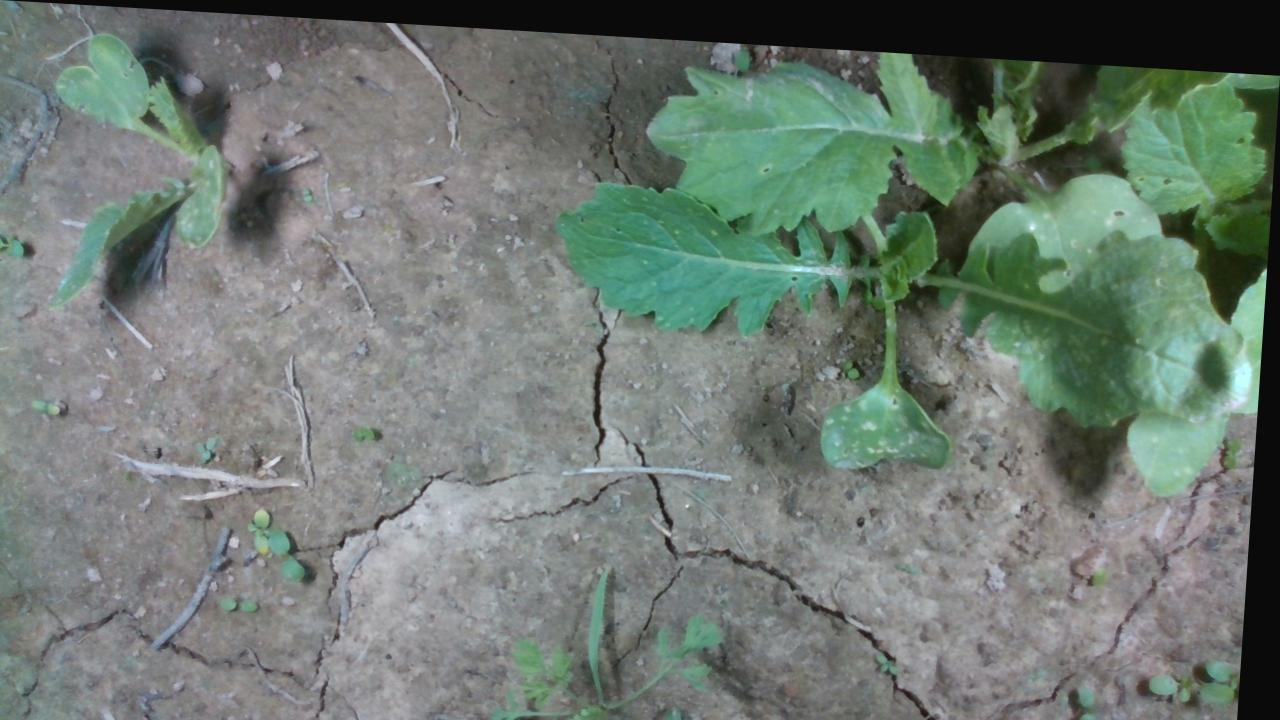weed: (1081, 667, 1109, 719), (225, 593, 267, 611), (30, 396, 66, 416), (199, 430, 223, 456), (356, 420, 382, 438), (845, 346, 864, 370), (303, 182, 314, 199)
